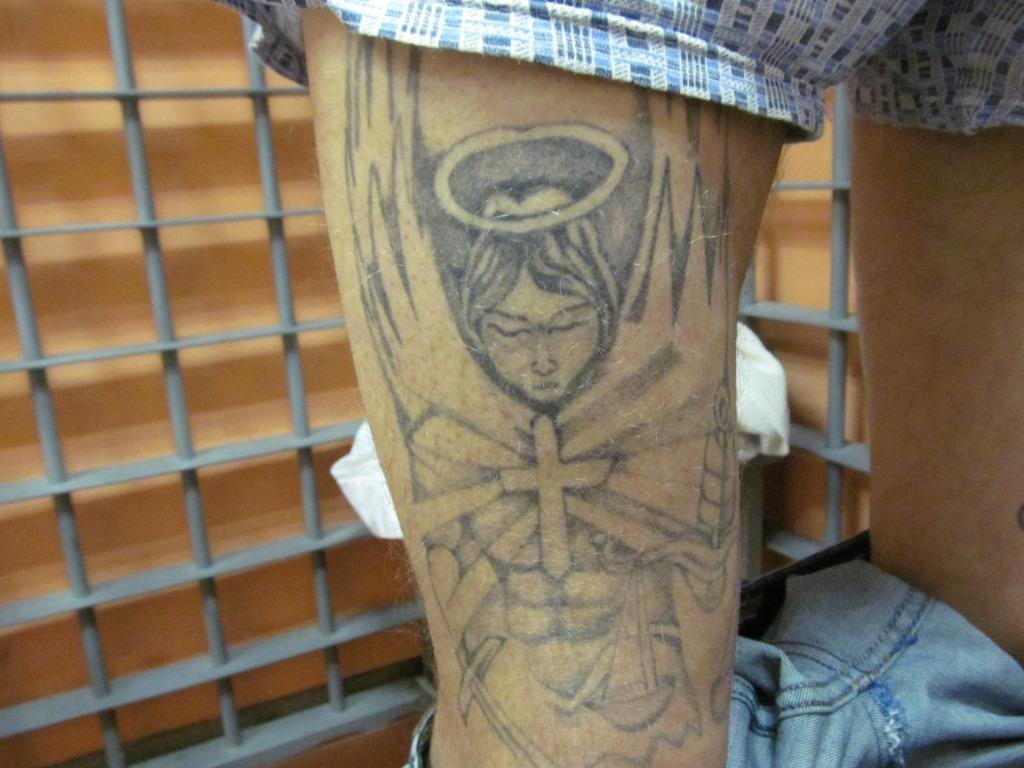tatu1_angel: (363, 104, 739, 650), (496, 407, 618, 591)
